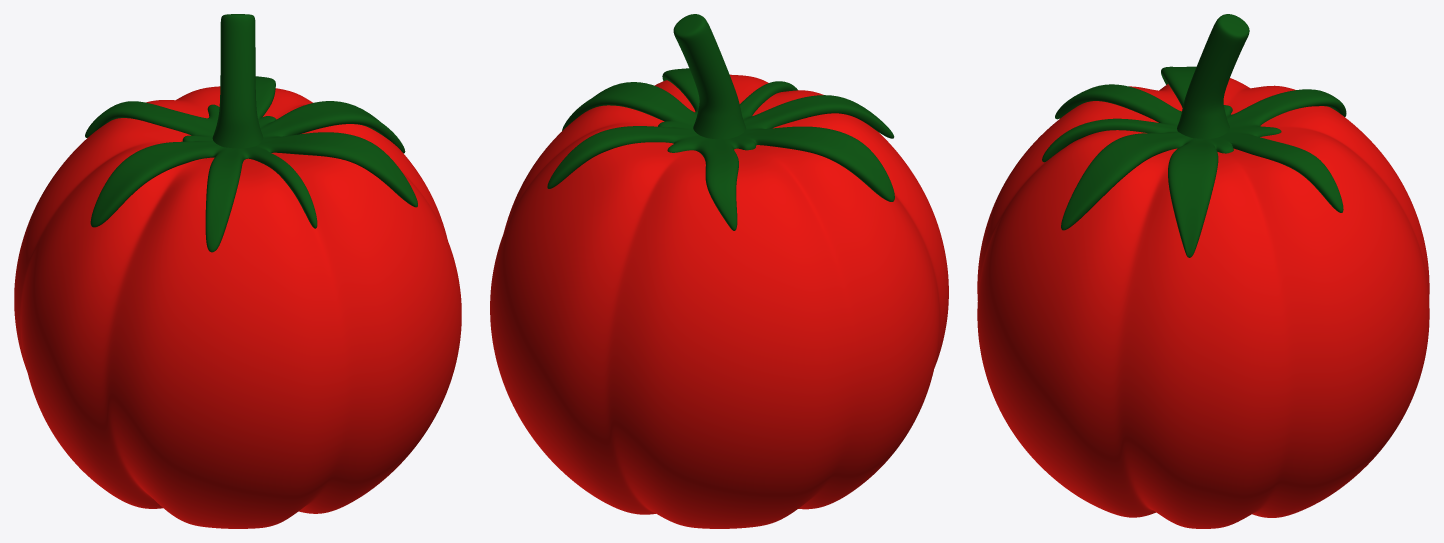
Rendered from tomato.fbx.
3 renders of one model, left to right at view 1: azimuth 30°, elevation 25°; view 2: azimuth 150°, elevation 25°; view 3: azimuth 270°, elevation 25°, orthographic. The views are drawn at different scales.
Parts seen in each view (by area): view 1: Sphere, Sphere.002, Cube; view 2: Sphere, Sphere.002, Cube; view 3: Sphere, Sphere.002, Cube.
Part boxes in pixels (box(x1,y1,x2,y2)): Sphere: box(14, 86, 461, 528); Sphere.002: box(85, 76, 417, 252); Cube: box(212, 14, 263, 148); Sphere: box(490, 74, 948, 528); Sphere.002: box(547, 68, 894, 230); Cube: box(673, 14, 746, 139); Sphere: box(977, 78, 1429, 528); Sphere.002: box(1042, 66, 1346, 257); Cube: box(1177, 14, 1249, 138).
Size of the model in its own units: 197 by 223 by 193.
